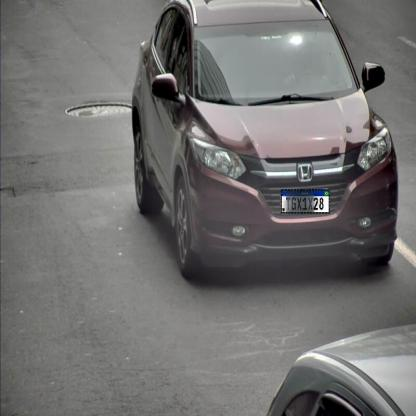PlacaM: (280, 189, 329, 214)
